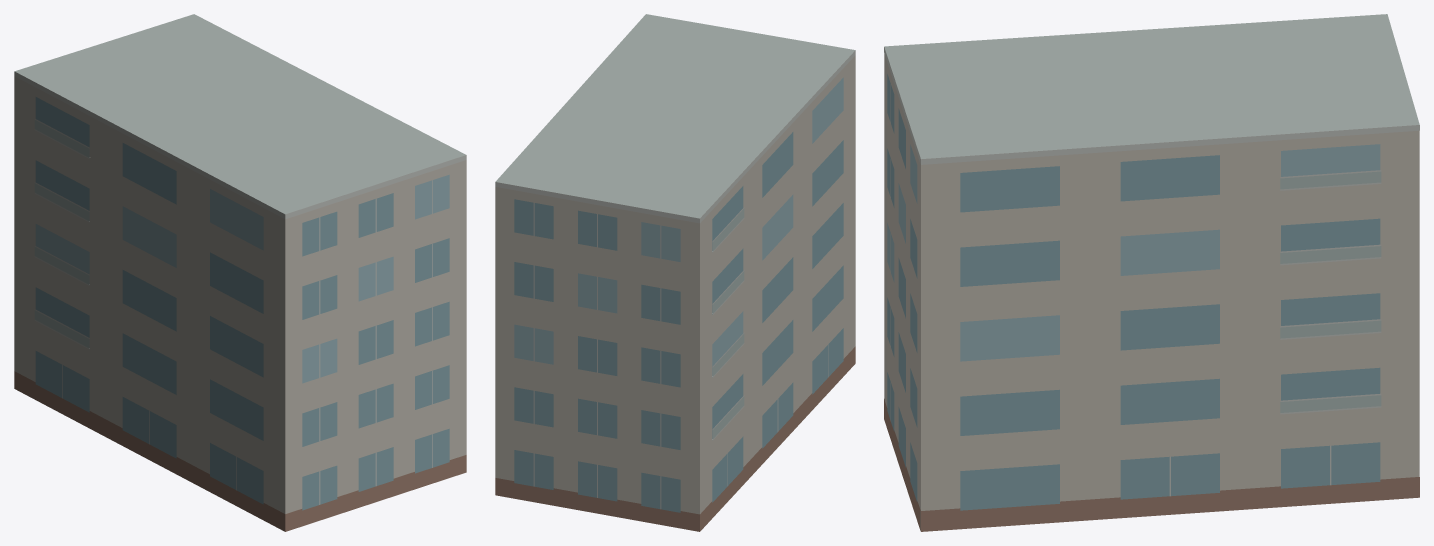
Rendered from survey-upis-32575378.glb.
3 views of the same model, side by side, from view 1: azimuth 30°, elevation 25°; view 2: azimuth 150°, elevation 25°; view 3: azimuth 270°, elevation 25° (orthographic). The views are drawn at different scales.
Visible parts, largest first — view 1: survey-upis-32575378.tmp; view 2: survey-upis-32575378.tmp; view 3: survey-upis-32575378.tmp.
Part boxes in pixels (x1,y1,x2,y2): survey-upis-32575378.tmp: (14, 14, 466, 531); survey-upis-32575378.tmp: (495, 14, 855, 531); survey-upis-32575378.tmp: (884, 14, 1419, 531).
Bounding box in the file's own units: 13.12 × 15.7 × 20.46.
